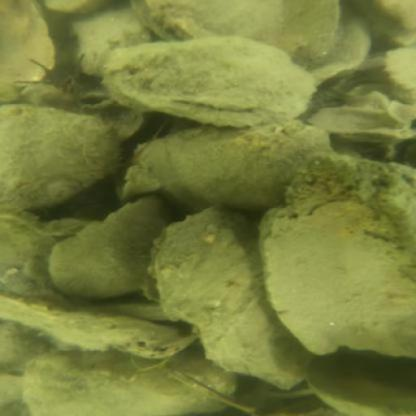Oyster- Indeterminate: (100, 31, 315, 129)
Oyster-Closed: (151, 208, 311, 391), (135, 125, 338, 214), (25, 349, 241, 416), (0, 108, 125, 215), (48, 193, 173, 299)
